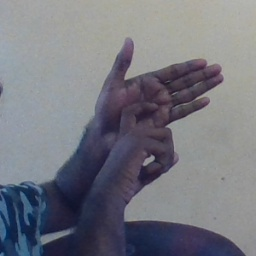R: (77, 34, 228, 192)
